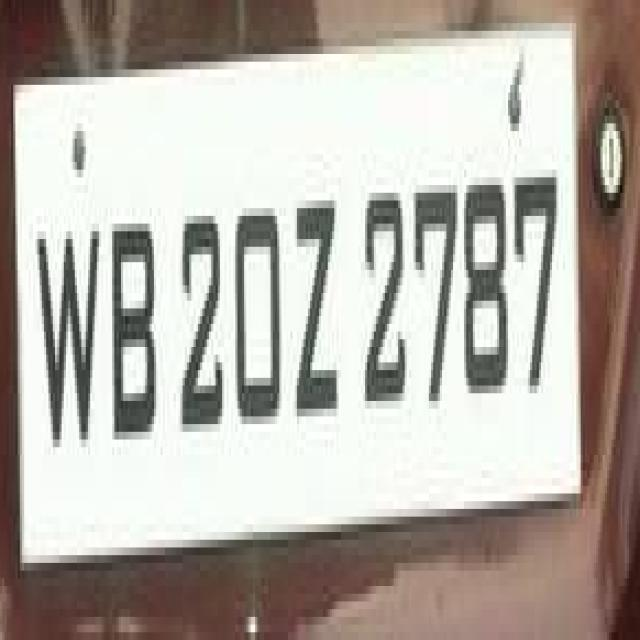license_plate: (15, 0, 595, 601)
